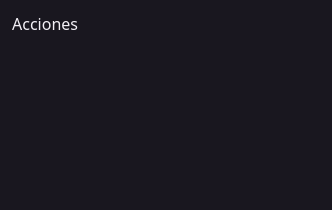
Menu › anuncia el ítem marcado con aria-checked y nombra el menú con su cabecera
This screenshot has width=332, height=210.
Later steps or results of the test are not shown.
Click the button "Acciones": (45, 24) [12,12,78,36]
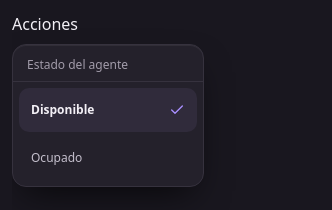
Expected: the menu "Estado del agente" is shown, [12,44,204,187]
